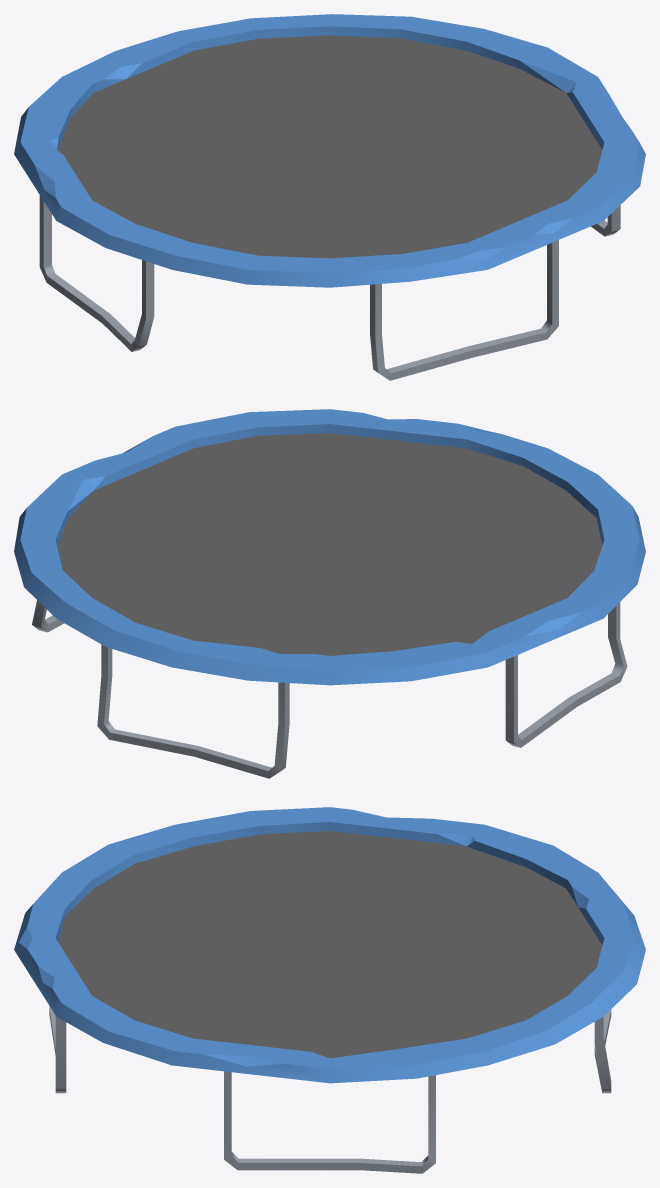
The model's file is SM_Prop_Trampoline_01.obj.
3 renders of one model, top to bottom at view 1: azimuth 30°, elevation 25°; view 2: azimuth 150°, elevation 25°; view 3: azimuth 270°, elevation 25°, orthographic.
Parts seen in each view (by area): view 1: SM_Prop_Trampoline_01_Mat_SwatchOverlay_PolygonTown_01_Inst; view 2: SM_Prop_Trampoline_01_Mat_SwatchOverlay_PolygonTown_01_Inst; view 3: SM_Prop_Trampoline_01_Mat_SwatchOverlay_PolygonTown_01_Inst.
Part boxes in pixels (box(x1,y1,x2,y2)): SM_Prop_Trampoline_01_Mat_SwatchOverlay_PolygonTown_01_Inst: box(14, 14, 645, 380); SM_Prop_Trampoline_01_Mat_SwatchOverlay_PolygonTown_01_Inst: box(14, 409, 645, 778); SM_Prop_Trampoline_01_Mat_SwatchOverlay_PolygonTown_01_Inst: box(14, 807, 645, 1173).
Bounding box in the file's own units: 4.22 × 0.8565 × 4.22.
1 material, 1 textured.
